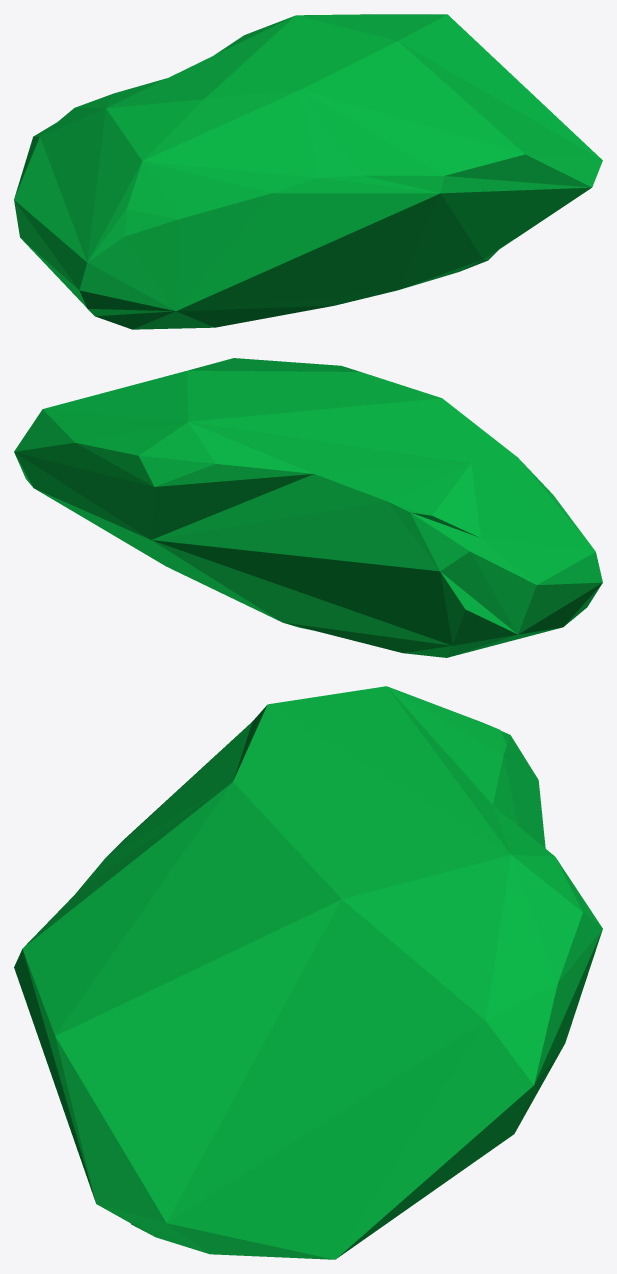
File: gaunmu.fbx
3 renders of one model, top to bottom at view 1: azimuth 30°, elevation 25°; view 2: azimuth 150°, elevation 25°; view 3: azimuth 270°, elevation 25°, orthographic. The views are drawn at different scales.
Visible parts, largest first — view 1: pasted__pasted__pCube186; view 2: pasted__pasted__pCube186; view 3: pasted__pasted__pCube186.
Part boxes in pixels (x1,y1,x2,y2): pasted__pasted__pCube186: (14, 14, 602, 329); pasted__pasted__pCube186: (14, 358, 602, 657); pasted__pasted__pCube186: (14, 686, 602, 1259).
Bounding box in the file's own units: 6.4 × 2.61 × 3.83.
